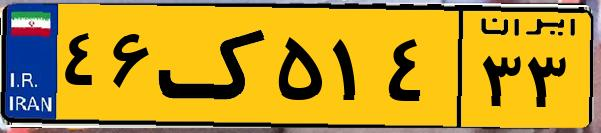1: (330, 28, 385, 110)
3: (475, 38, 525, 113), (525, 38, 570, 115)
4: (385, 28, 445, 110), (57, 26, 110, 100)
5: (270, 28, 330, 110)
6: (110, 28, 158, 98)
ک: (158, 12, 270, 120)
